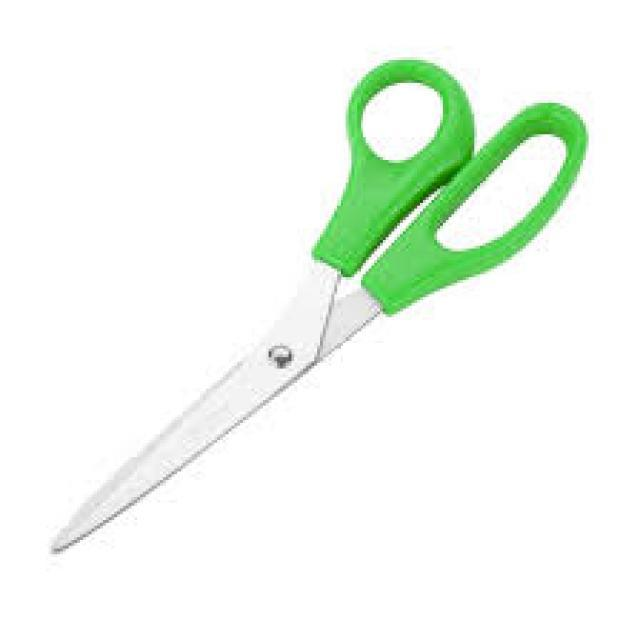scissor: (51, 58, 592, 558)
